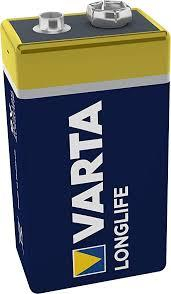9V: (1, 1, 170, 293)
